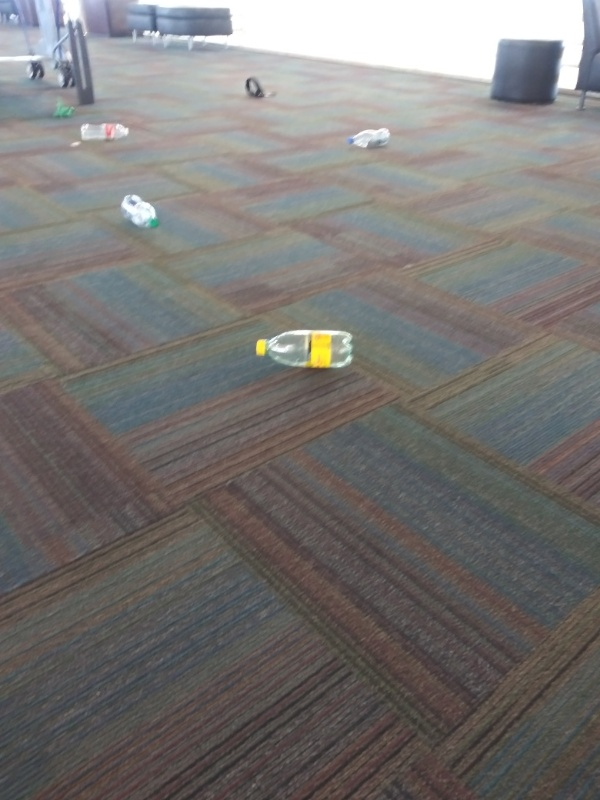bottle: (249, 325, 361, 374), (115, 192, 160, 230), (345, 126, 393, 151), (78, 120, 134, 141)
